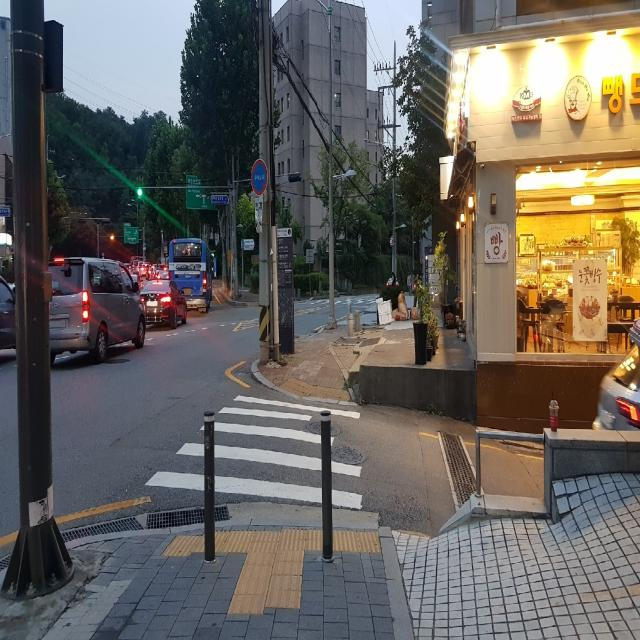횡단보도: (143, 394, 364, 512), (352, 298, 368, 307), (336, 300, 346, 306), (314, 301, 328, 305)
